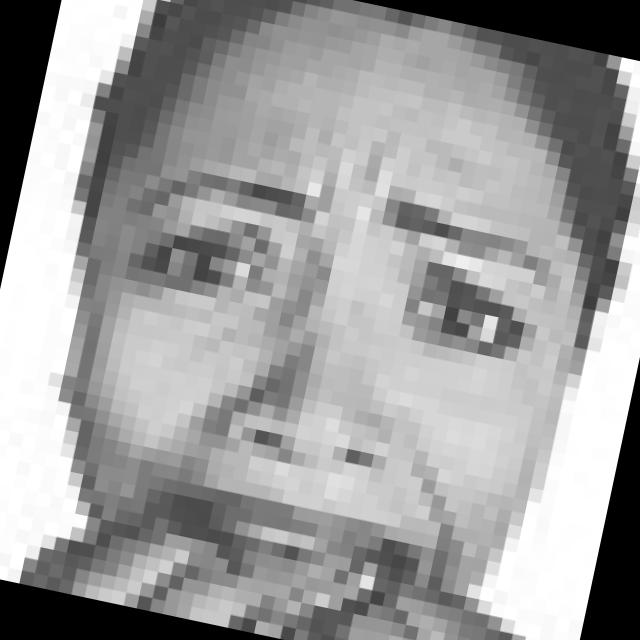fear: (50, 91, 580, 640)
